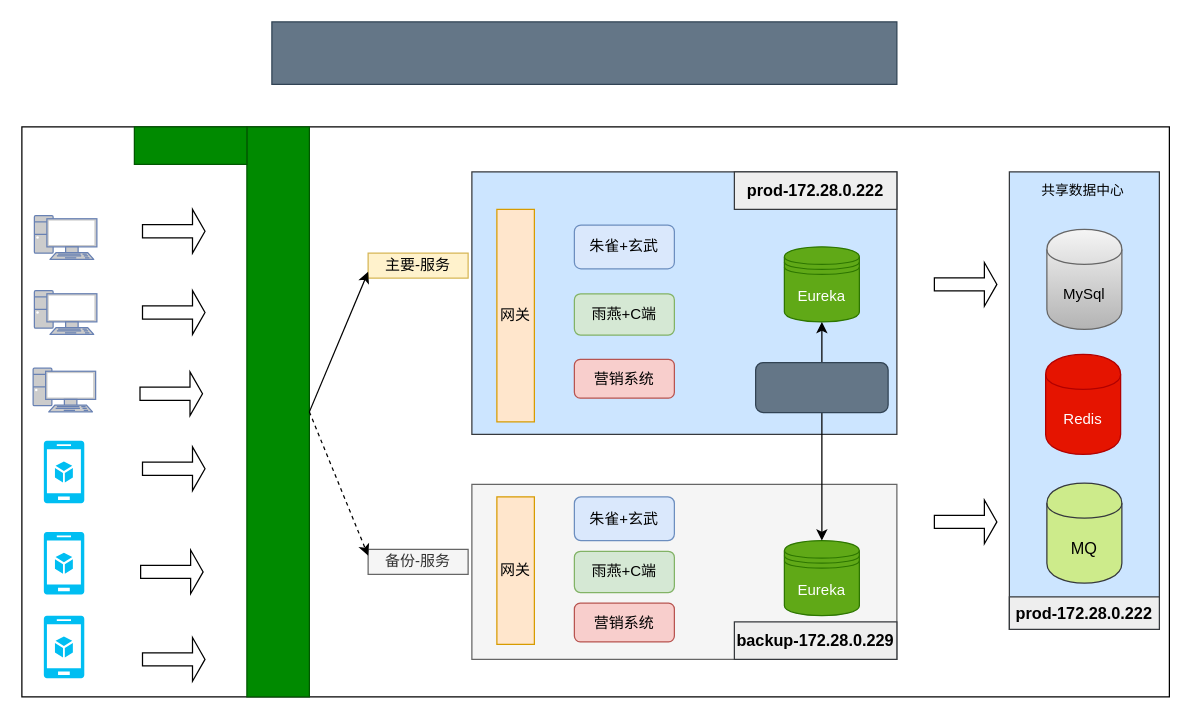
The diagram is 1191 pixels wide and 719 high, and some of its shapes have lost their labels. Each missing label, with the centre of its shape:
"Nginx" belongs at [277,411].
"ws指令中心" belongs at [821,386].
"流量总入口" belongs at [190,145].
"简24-电商系统部署架构图" belongs at [584,52].
